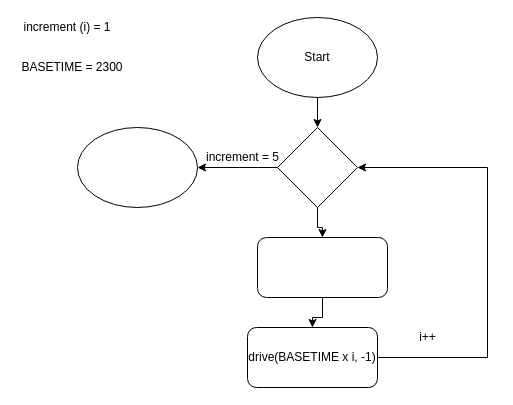
The diagram is 513 pixels wide and 405 high, and some of its shapes have lost their labels. Each missing label, with the centre of its shape:
"drive(BASETIME x i, 1)" goes at pixel 322 267.
"Stop" goes at pixel 137 167.
